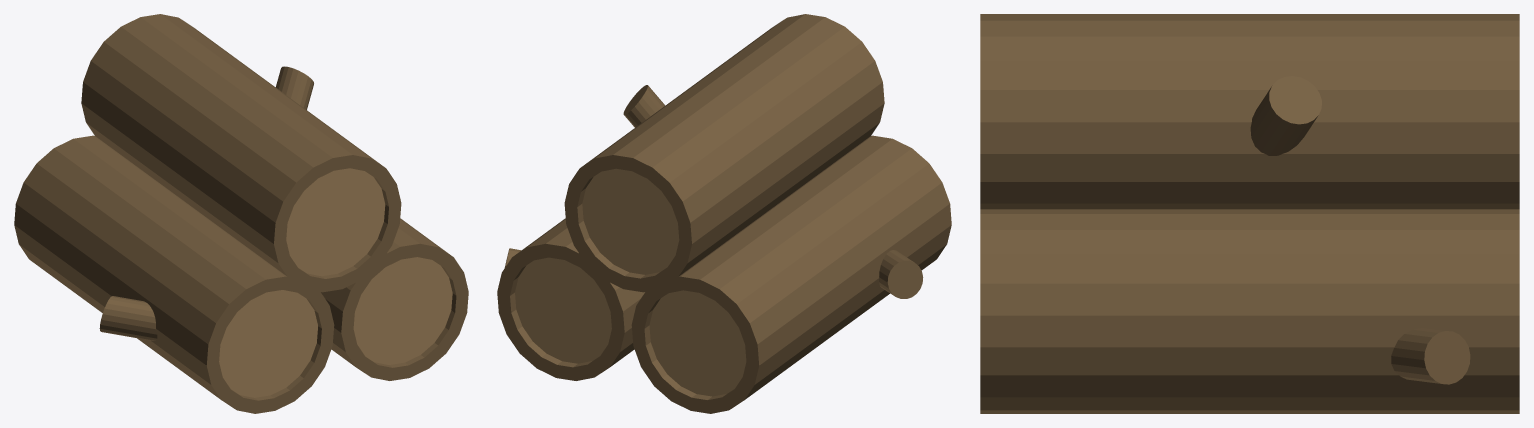
The model's file is Fire wood.fbx.
3 views of the same model, side by side, from view 1: azimuth 30°, elevation 25°; view 2: azimuth 150°, elevation 25°; view 3: azimuth 270°, elevation 25° (orthographic). The views are drawn at different scales.
Visible parts, largest first — view 1: pCylinder38; view 2: pCylinder38; view 3: pCylinder38.
Boxes of the visible parts, bbox=[...] form: pCylinder38: bbox=[14, 14, 468, 413]; pCylinder38: bbox=[497, 14, 951, 413]; pCylinder38: bbox=[980, 14, 1519, 413].
Size of the model in its own units: 0.9303 by 0.6511 by 0.9521.
